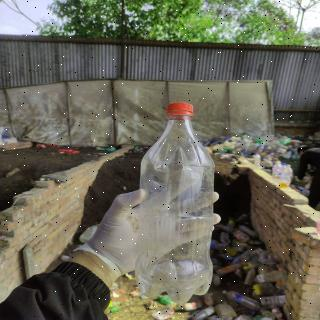Plastic-bottle: (133, 97, 219, 309)
